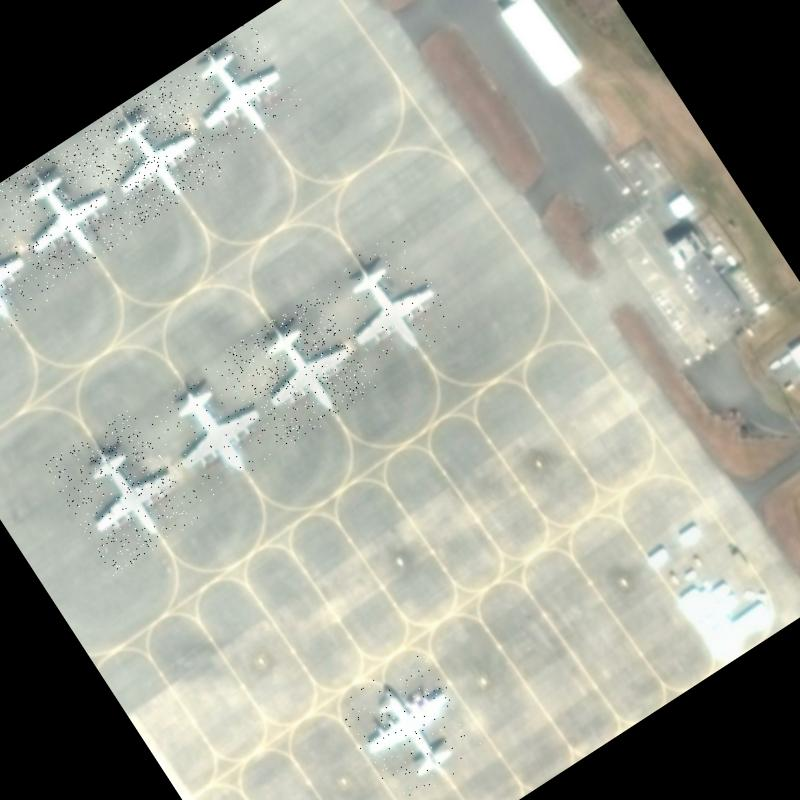A9: (42, 408, 202, 576), (331, 647, 489, 800), (226, 292, 378, 447), (312, 229, 462, 383), (140, 354, 290, 506), (76, 80, 225, 230), (0, 135, 137, 290), (164, 20, 306, 162), (0, 201, 53, 357)
